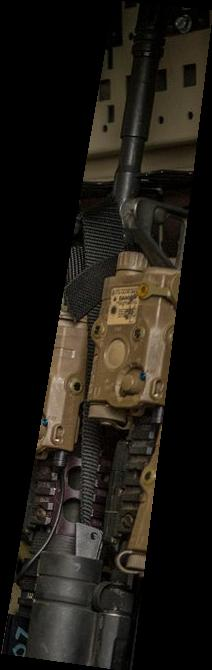gun: (1, 0, 212, 670)
